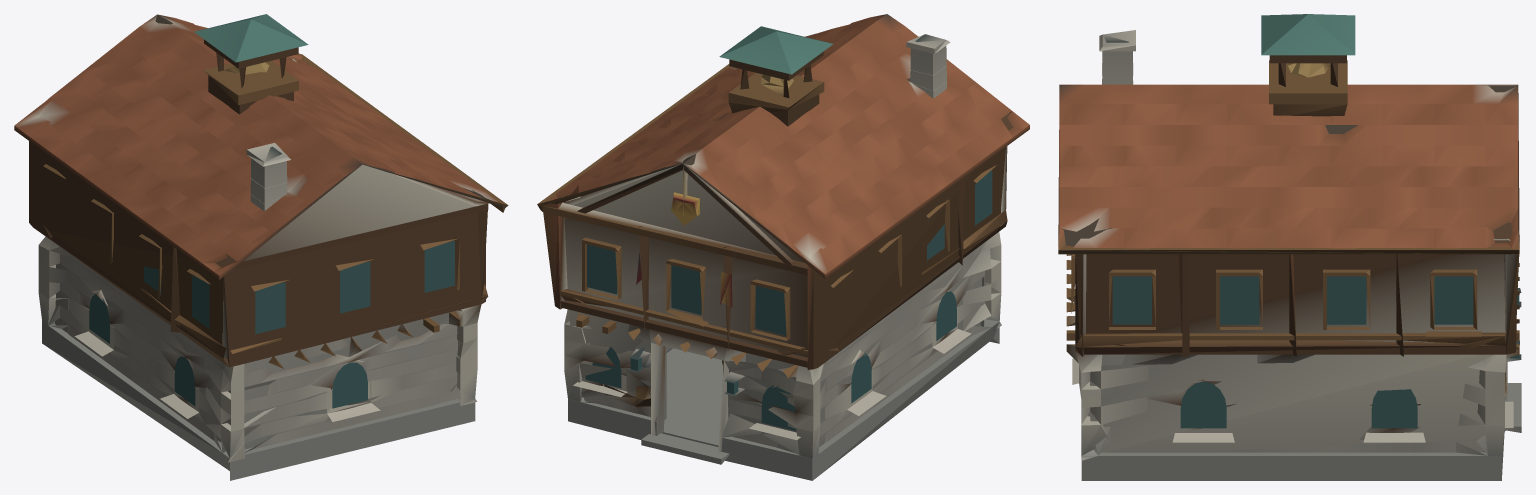
Rendered from VillageHall.glb.
The picture shows the model from 3 angles, left to right: view 1: azimuth 30°, elevation 25°; view 2: azimuth 150°, elevation 25°; view 3: azimuth 270°, elevation 25°; orthographic projection. The views are drawn at different scales.
Parts seen in each view (by area): view 1: VillageHall_P0_LOD1, VillageHallGlass_P0_LOD1; view 2: VillageHall_P0_LOD1, VillageHallGlass_P0_LOD1; view 3: VillageHall_P0_LOD1, VillageHallGlass_P0_LOD1.
Boxes of the visible parts, x1,y1,x2,y2 form: VillageHall_P0_LOD1: (14, 14, 508, 480); VillageHallGlass_P0_LOD1: (89, 241, 454, 408); VillageHall_P0_LOD1: (537, 14, 1029, 480); VillageHallGlass_P0_LOD1: (585, 170, 992, 430); VillageHall_P0_LOD1: (1058, 14, 1521, 480); VillageHallGlass_P0_LOD1: (1112, 276, 1519, 428).
Bounding box in the file's own units: 8.07 × 9.56 × 10.04.
